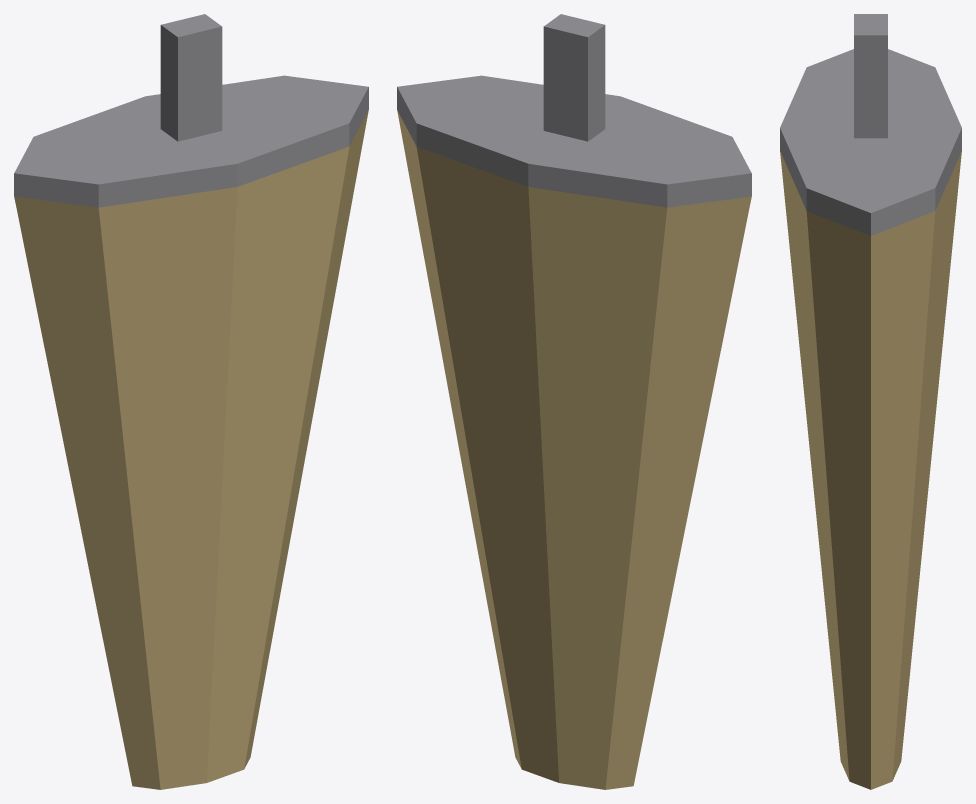
The model's file is prop-chape-blank.fbx.
3 views of the same model, side by side, from view 1: azimuth 30°, elevation 25°; view 2: azimuth 150°, elevation 25°; view 3: azimuth 270°, elevation 25° (orthographic).
Visible parts, largest first — view 1: prop-chape-blank; view 2: prop-chape-blank; view 3: prop-chape-blank.
Boxes of the visible parts, bbox=[...] form: prop-chape-blank: bbox=[14, 14, 368, 789]; prop-chape-blank: bbox=[397, 14, 751, 789]; prop-chape-blank: bbox=[780, 14, 961, 789].
Bounding box in the file's own units: 4.8 × 9.65 × 2.16.
